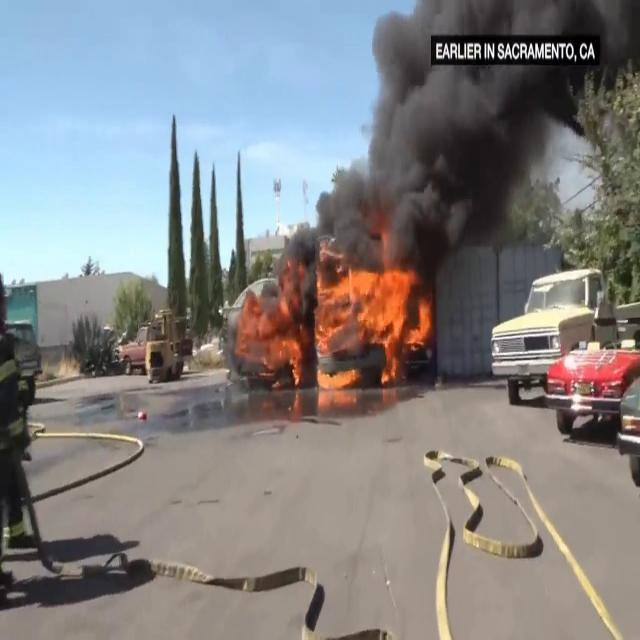Fire: (238, 243, 432, 400)
Smoke: (324, 0, 640, 264)
